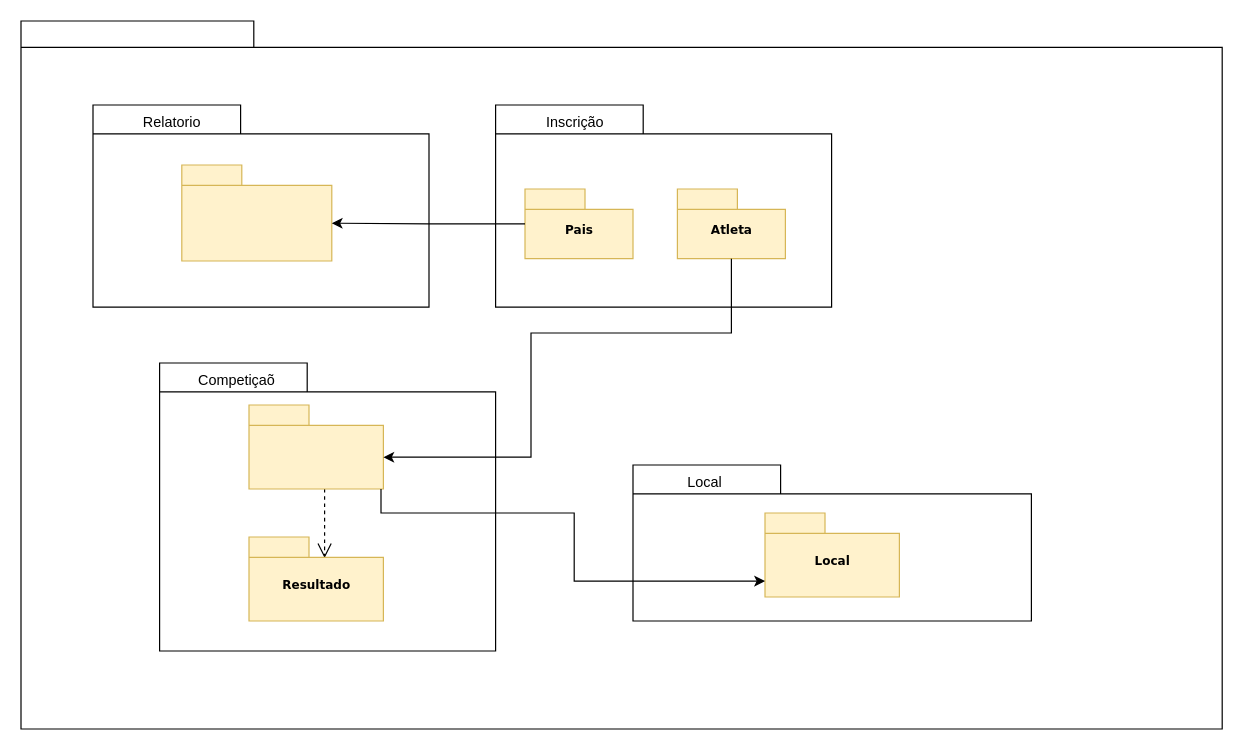
This 1243x750 diagram has some shape labels left out. Here are the shapes that lost their labels. From the top down, the centre of each, then its label:
At [256,212]: "RelatorioMedalha".
At [315,446]: "Competicao".
